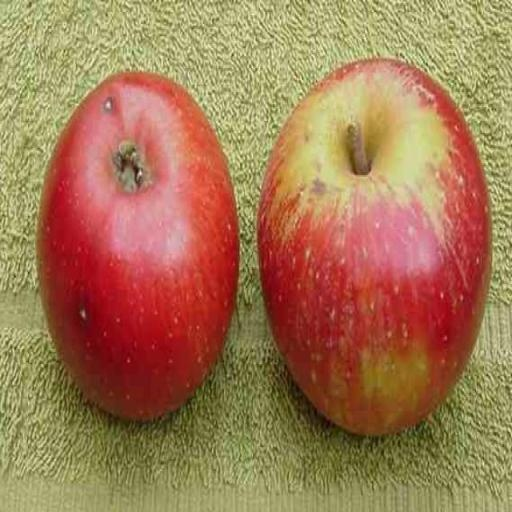fruit: (90, 138, 378, 483), (468, 126, 506, 474)
